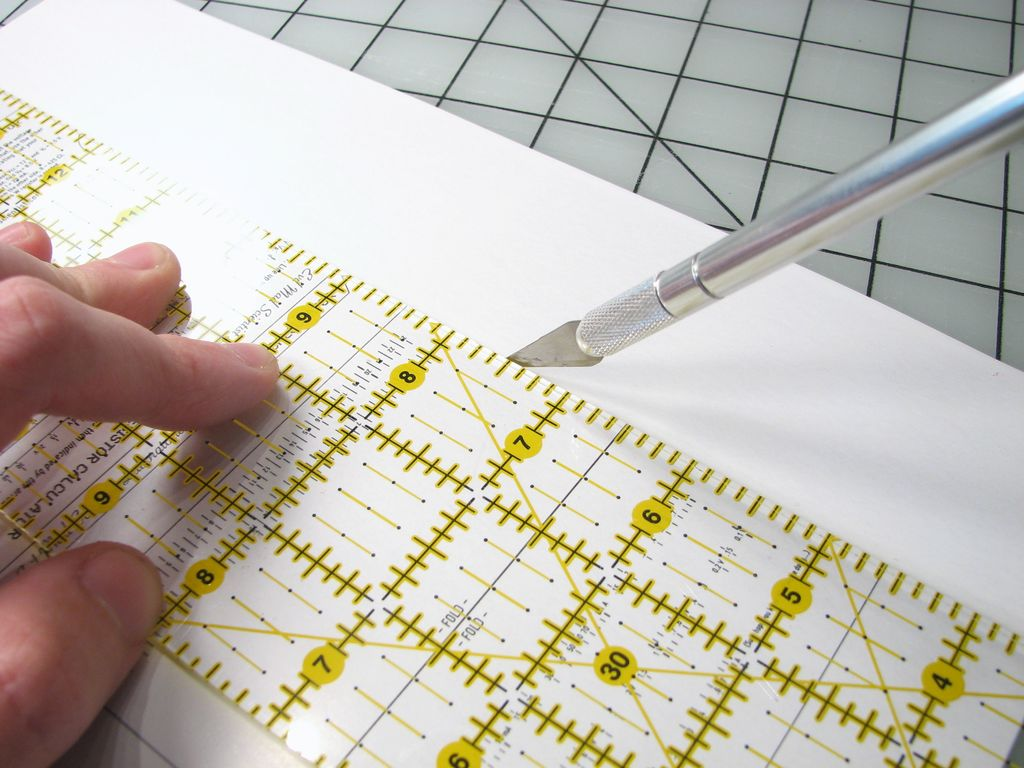Pen: (501, 63, 1023, 390)
